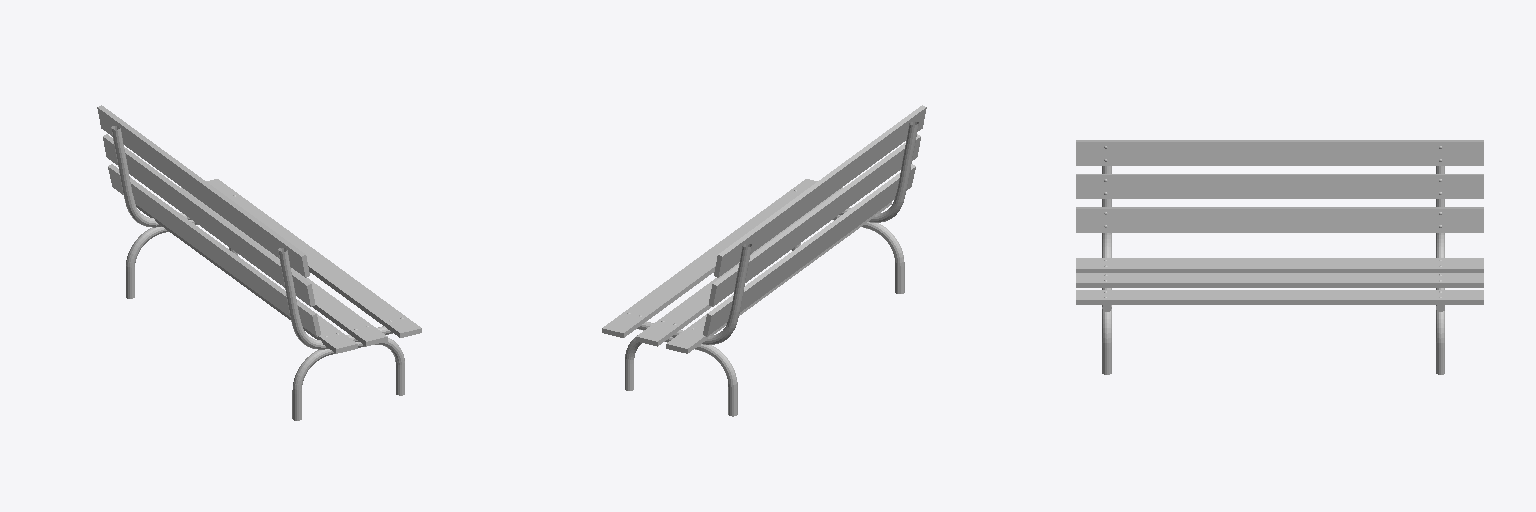
File: banca.obj
3 renders of one model, left to right at view 1: azimuth 30°, elevation 25°; view 2: azimuth 150°, elevation 25°; view 3: azimuth 270°, elevation 25°, orthographic.
Parts seen in each view (by area): view 1: kiti22; view 2: kiti22; view 3: kiti22.
Part boxes in pixels (left/top/right/bottom): kiti22: left=97, top=105, right=421, bottom=420; kiti22: left=602, top=105, right=926, bottom=416; kiti22: left=1076, top=140, right=1483, bottom=374.
Size of the model in its own units: 1.42 by 1.89 by 3.93.